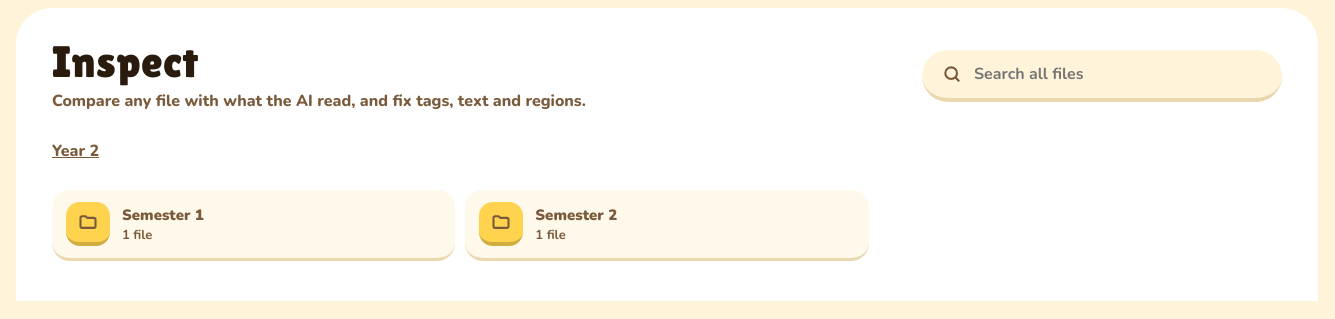
it: Inspect folder tree › walks Year 2 → semester → group → course → type → folder like the Drive
The image size is (1335, 319).
Click the button "Semester 1 1 file" at (88, 224), box [52, 190, 455, 261]
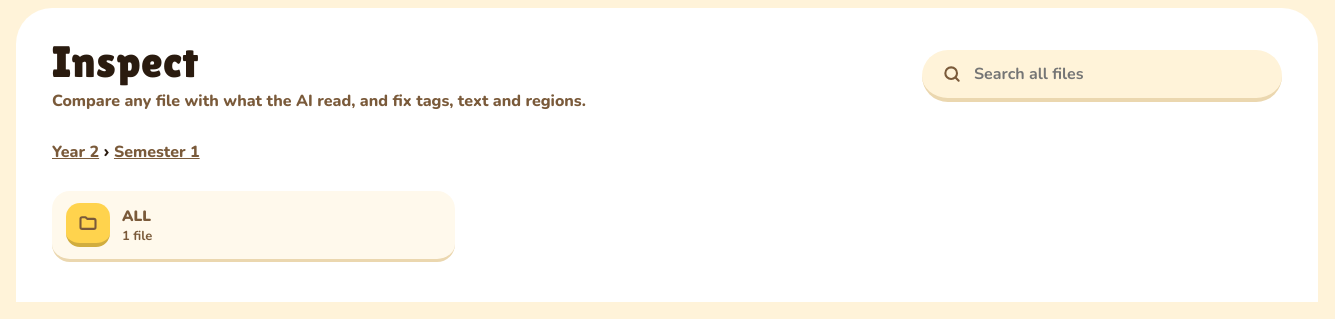
Click the button "ALL 1 file" at (88, 225), box [52, 191, 455, 262]
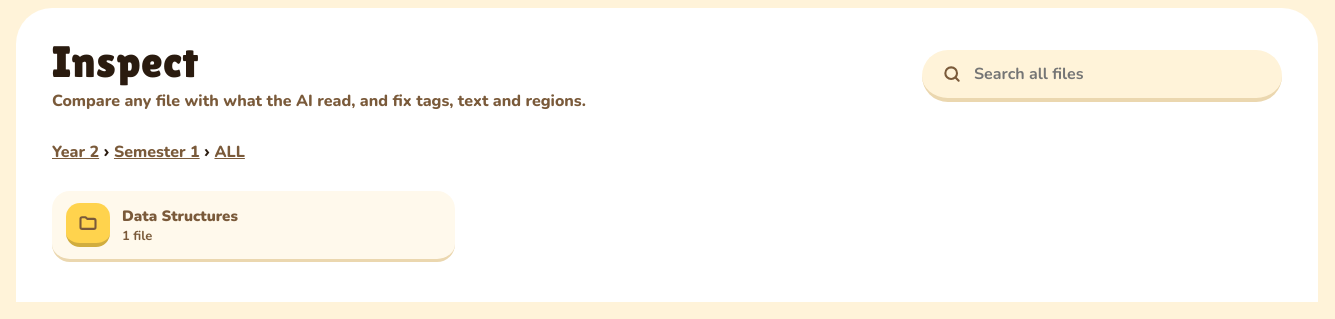
Click the button "Data Structures 1 file" at (88, 225), box [52, 191, 455, 262]
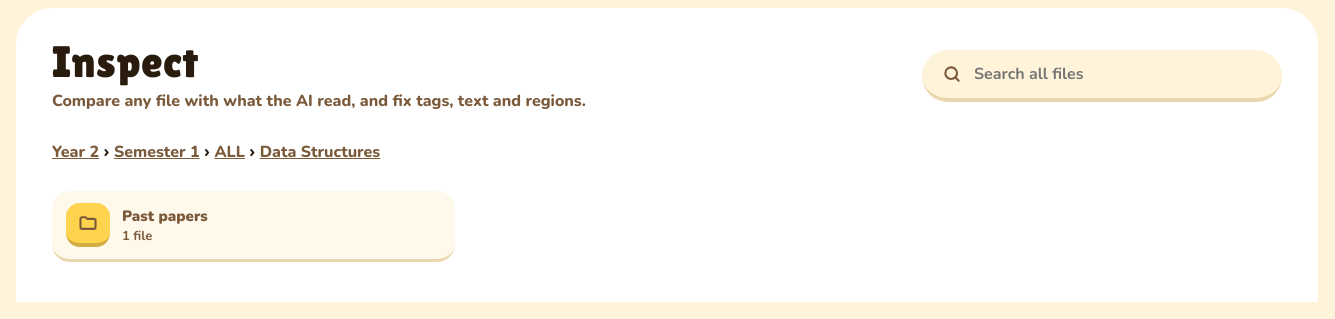
Click the button "Past papers 1 file" at (88, 225), box [52, 191, 455, 262]
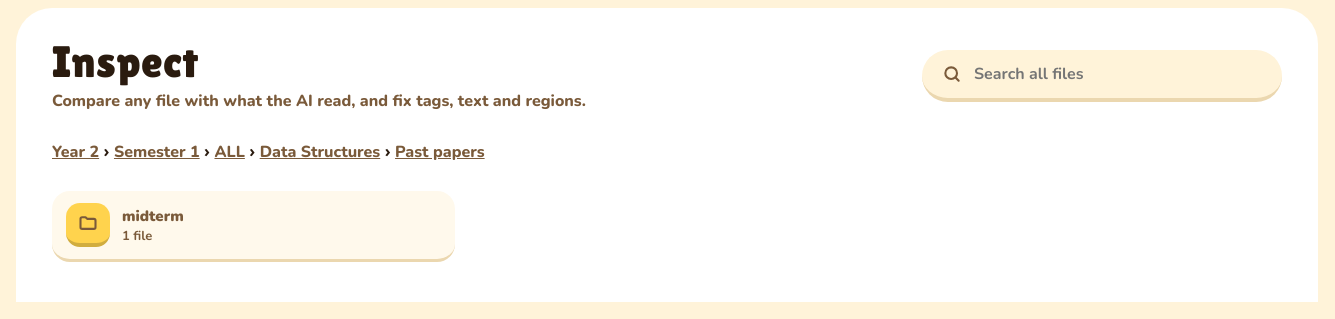
Click the button "midterm 1 file" at (88, 225), box [52, 191, 455, 262]
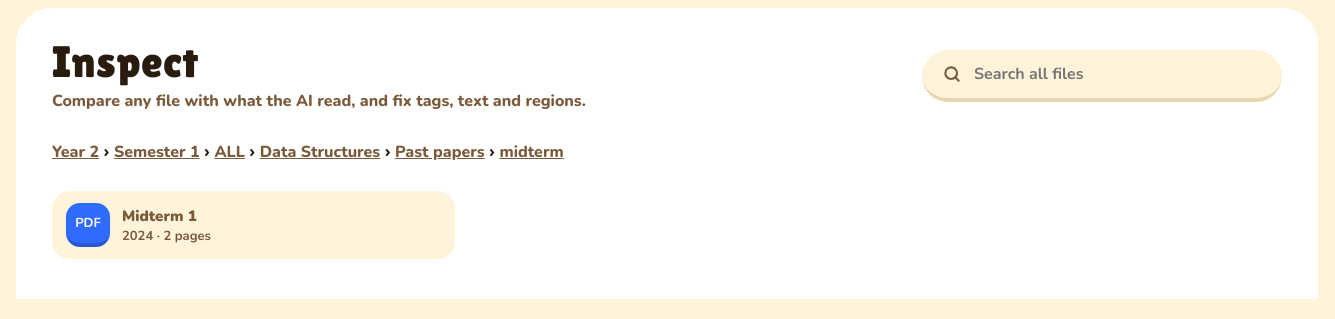
Click the button "Year 2" at (76, 152), box [52, 141, 99, 163]
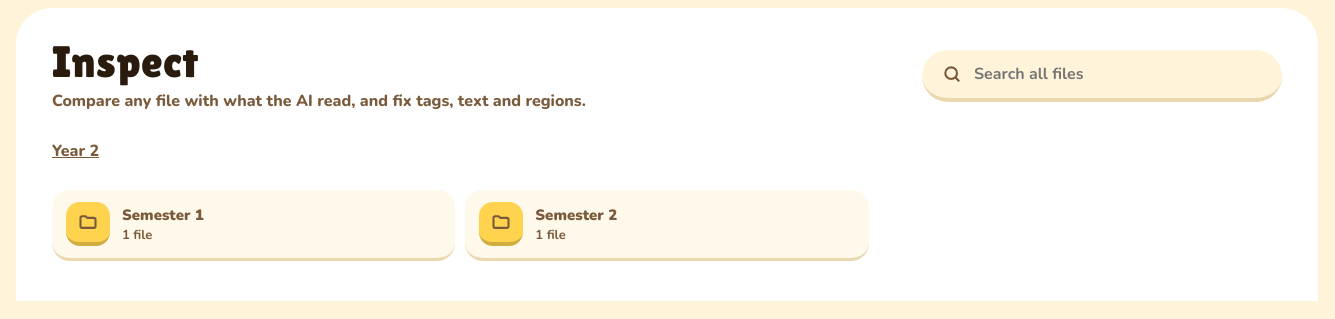
Expected: the button "Semester 2 1 file" is shown, [465, 190, 869, 261]
